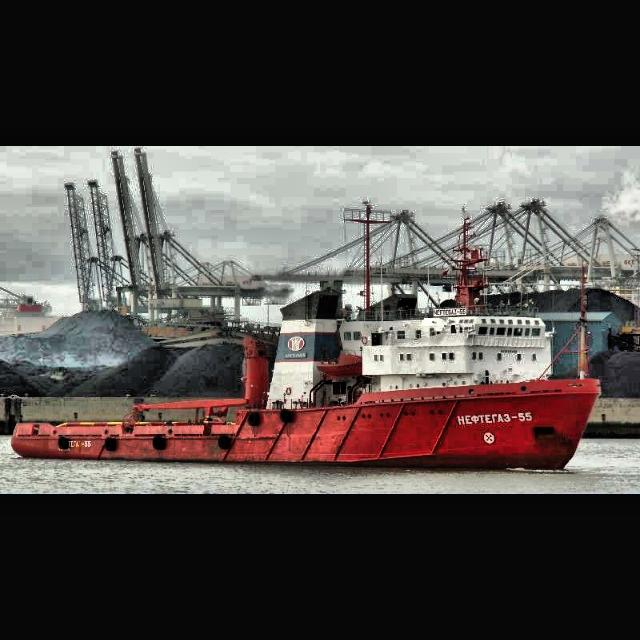anchor_handling_tug_supply: (9, 286, 603, 472)
